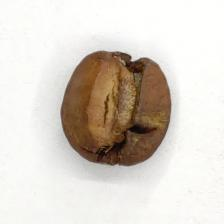NG: (91, 51, 150, 153)
